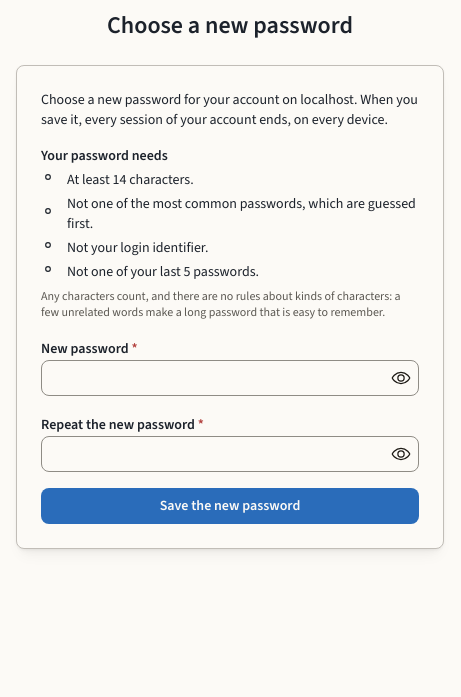
the password forms › say a used, replaced or expired recovery link does not work and to ask the administrator [TF-017 AC2, ADR-0046]
The image size is (461, 697).
Click the password field labelled "New password *" at point(230, 378), box [42,361,418,395]
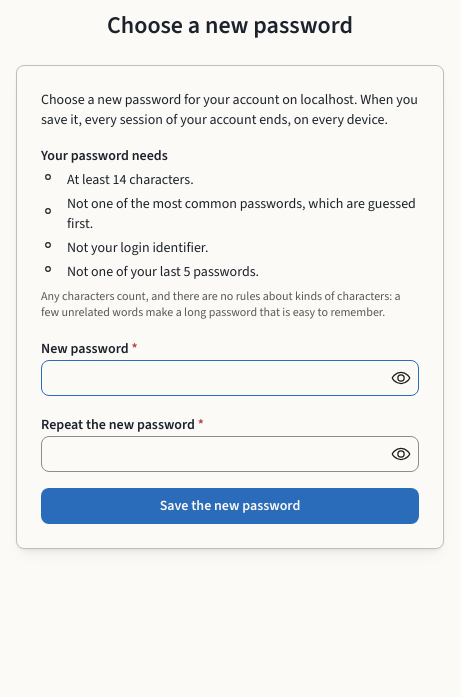
Type keys "a brand new passphrase"
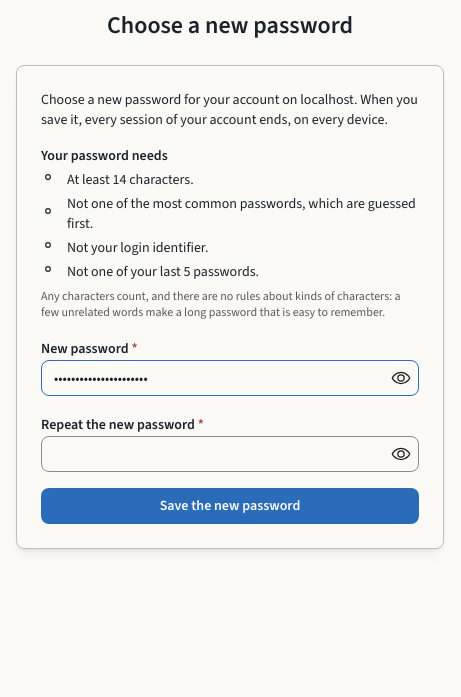
Click the password field labelled "Repeat the new password *" at point(230, 454), box [42,437,418,471]
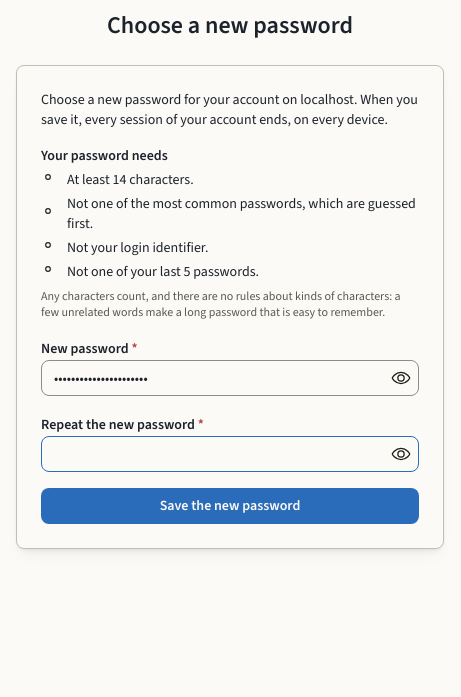
Type keys "a brand new passphrase"
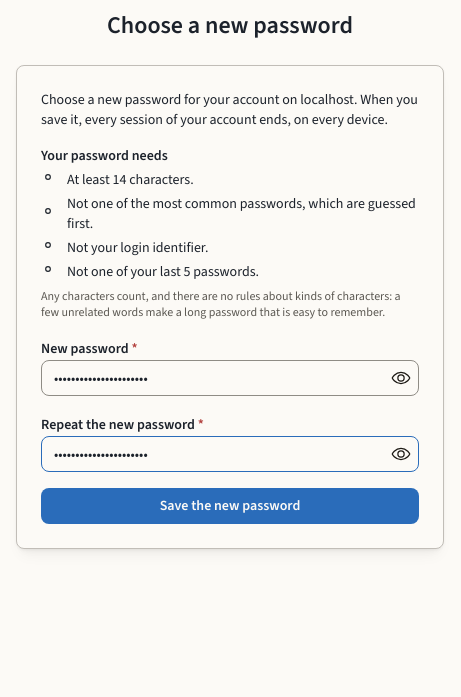
Click the button "Save the new password" at point(230, 506), box [41,488,419,524]
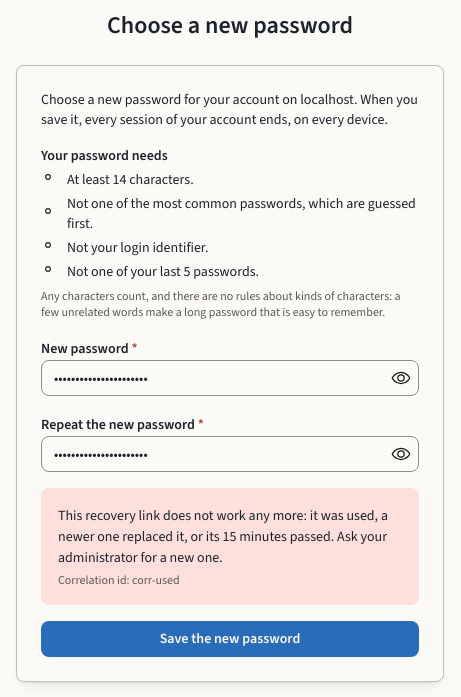
Result: the message shows "This recovery link does not work any more" at [58,506,388,567]
Result: the message shows "Ask your administrator for a new one." at [58,506,388,567]
Result: the message shows "corr-used" at [58,572,180,588]
